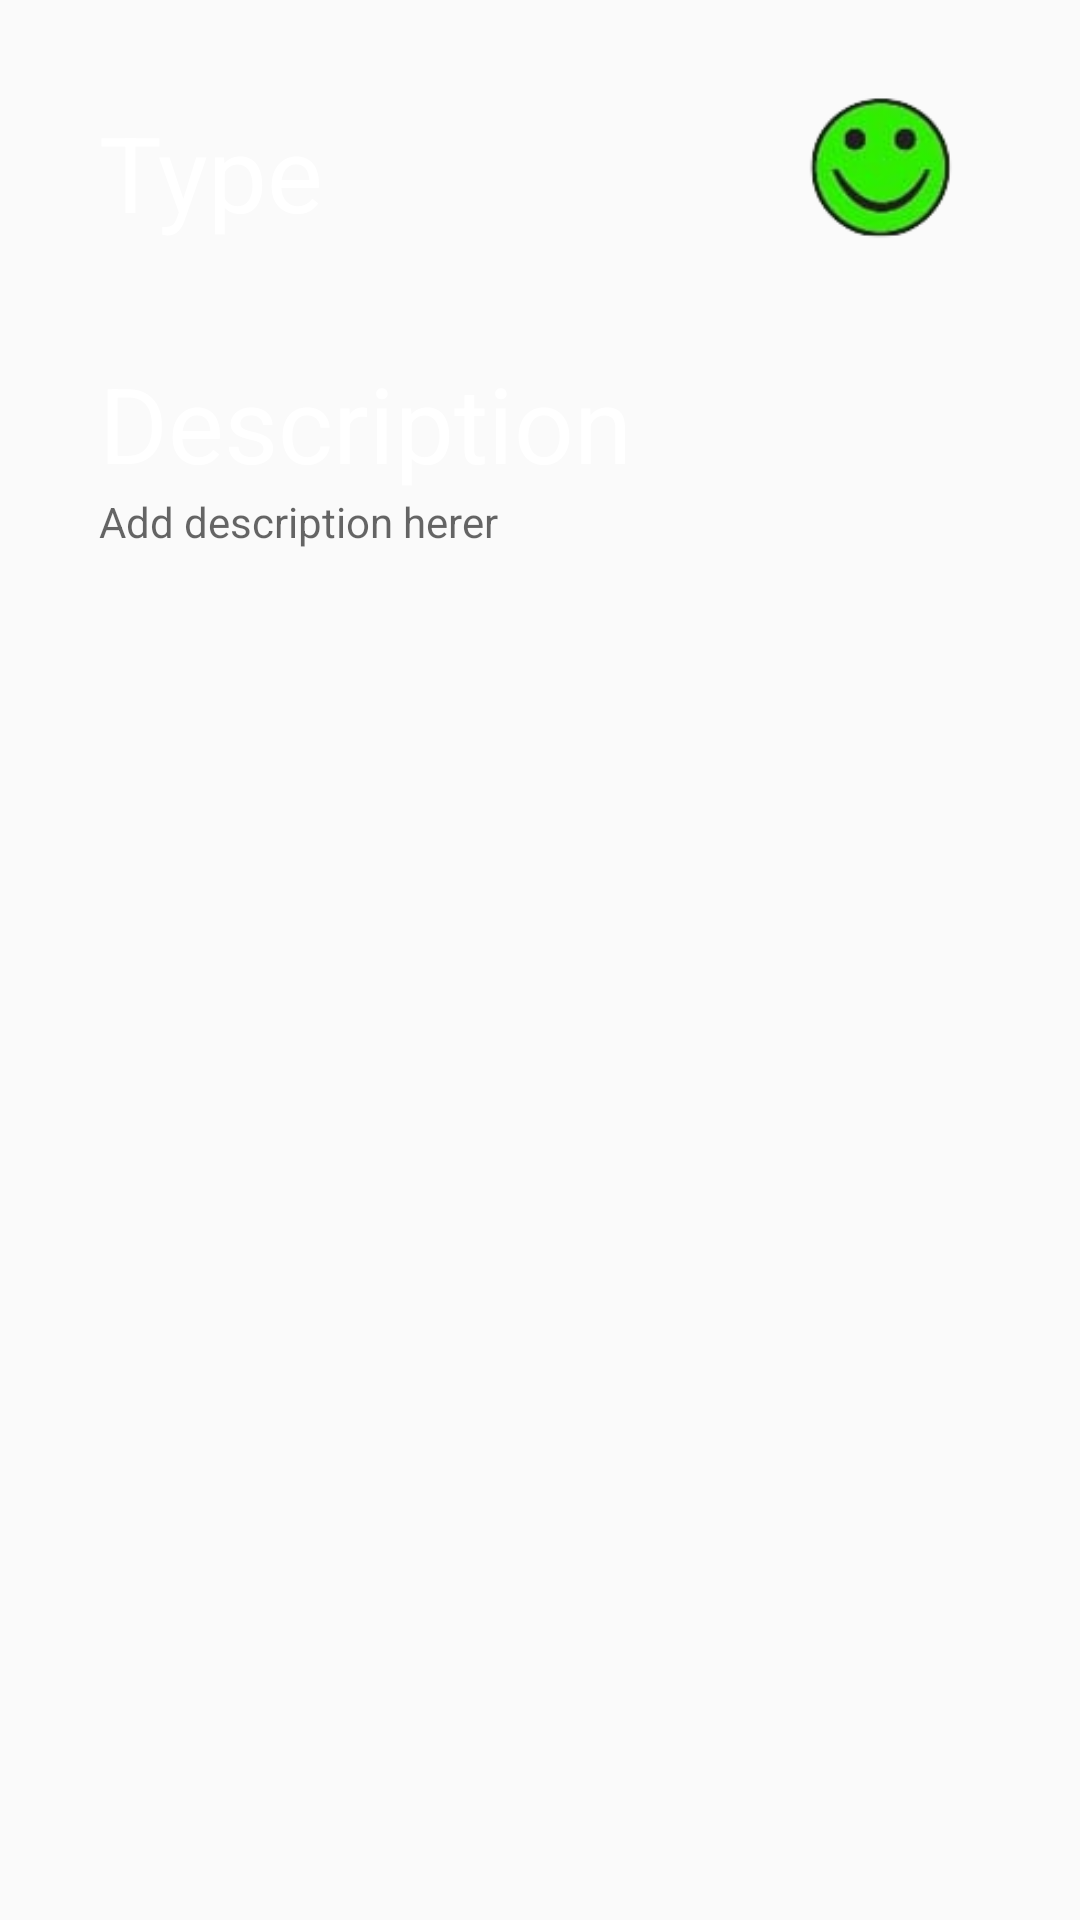

Named icons in this screenshot (1080×1920) and their bounding boxes, (x1, y1, x2, y2):
smile: (810, 98, 950, 237)
